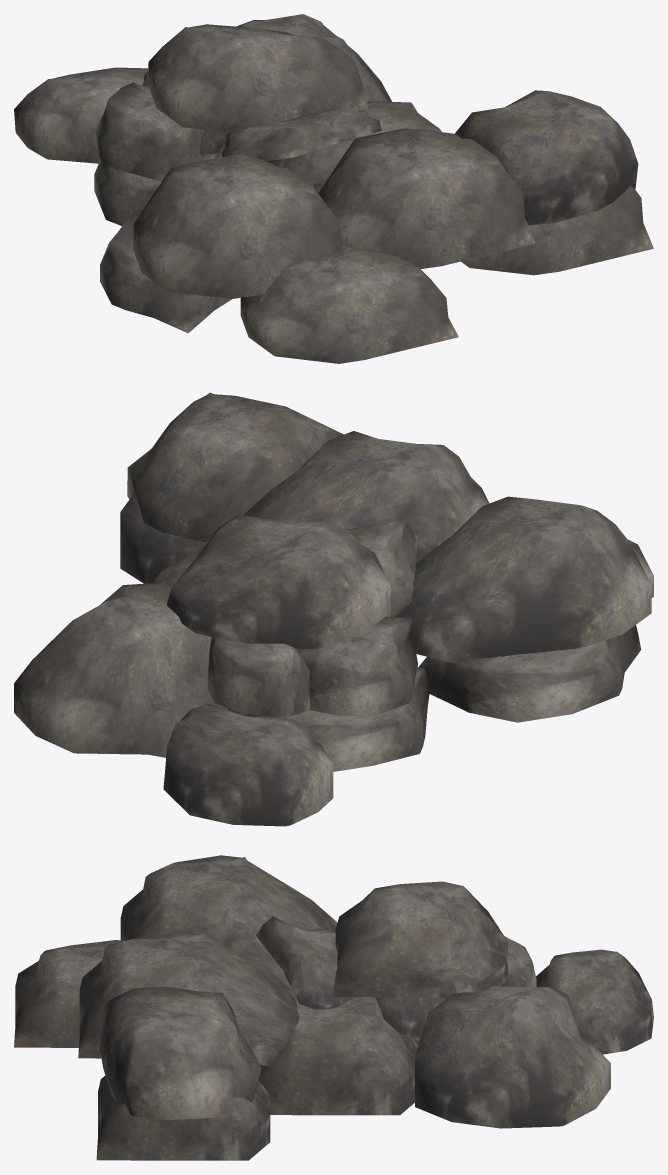
The model's file is SM_Mado_Stones.fbx.
3 renders of one model, top to bottom at view 1: azimuth 30°, elevation 25°; view 2: azimuth 150°, elevation 25°; view 3: azimuth 270°, elevation 25°, orthographic. The views are drawn at different scales.
Visible parts, largest first — view 1: SM_Mado_Stones; view 2: SM_Mado_Stones; view 3: SM_Mado_Stones.
Part boxes in pixels (left/top/right/bottom): SM_Mado_Stones: left=14, top=14, right=653, bottom=363; SM_Mado_Stones: left=14, top=392, right=653, bottom=826; SM_Mado_Stones: left=14, top=855, right=653, bottom=1160.
Size of the model in its own units: 81.05 by 98.5 by 27.91.
Materials: 1 (1 with a texture image).
